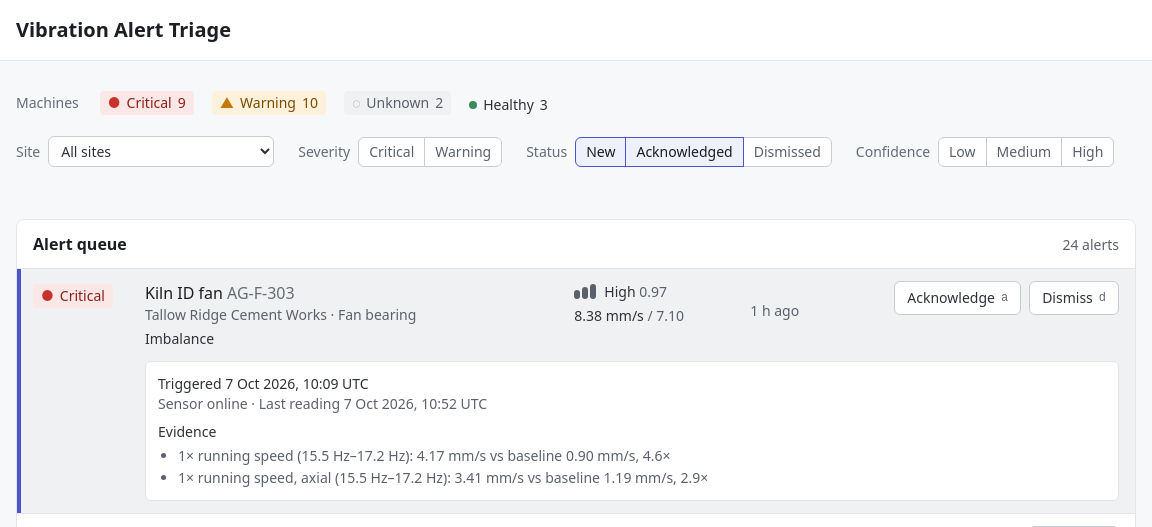
Test: machine list rows link to alerts › opens the dismissed alert, with its correction banner, when there is no open alert
The image size is (1152, 527).
What coordinates should you click on to do the following:
click the button "▲ Warning 10"
I would click on:
 (269, 102)
Its box is [207, 85, 331, 120].
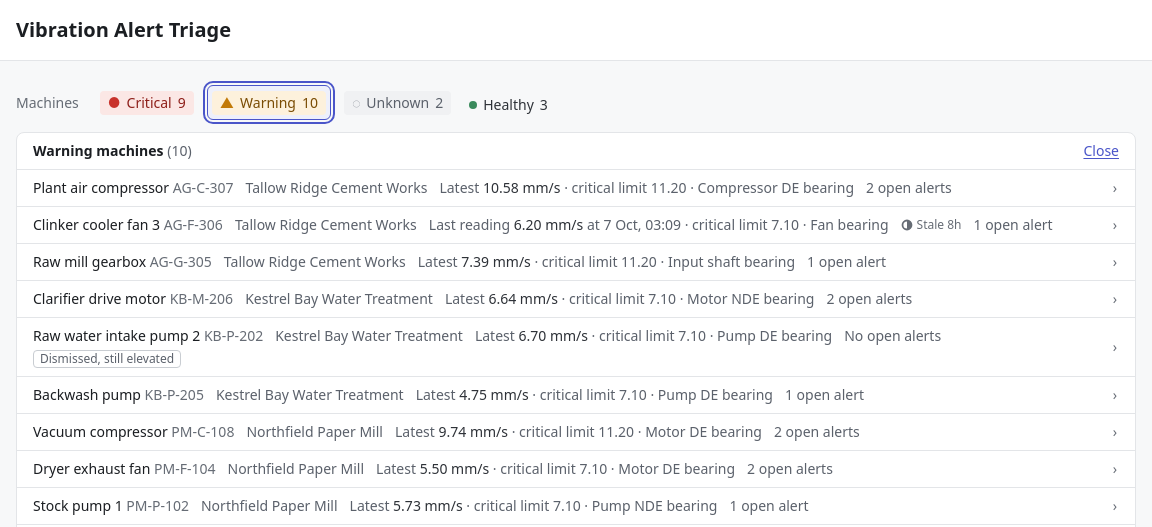
What coordinates should you click on to do the following:
click the link that starts with "Raw water intake pump 2"
I would click on:
 (576, 347)
Its box is [17, 318, 1135, 376].
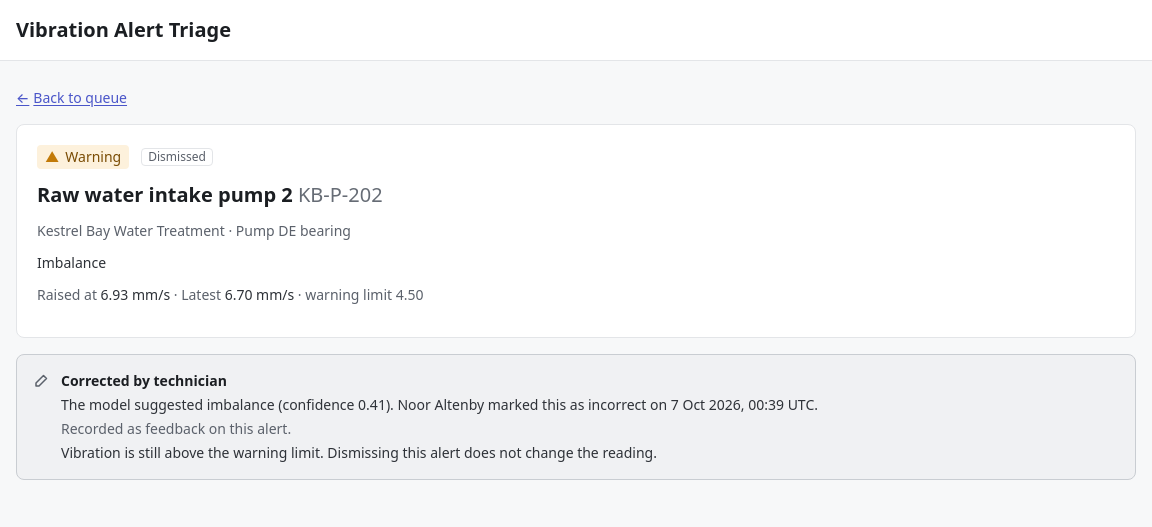
Now the element "Corrected by technician" is shown, box [16, 354, 1136, 480]
